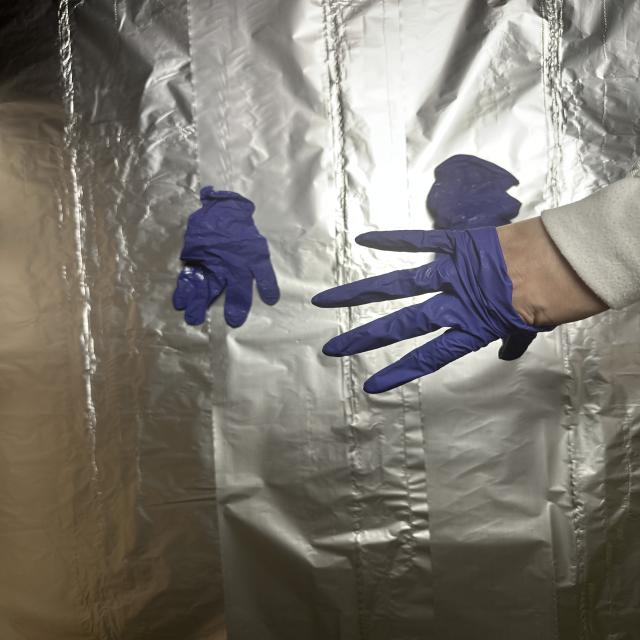glove_partial: (309, 215, 607, 396)
